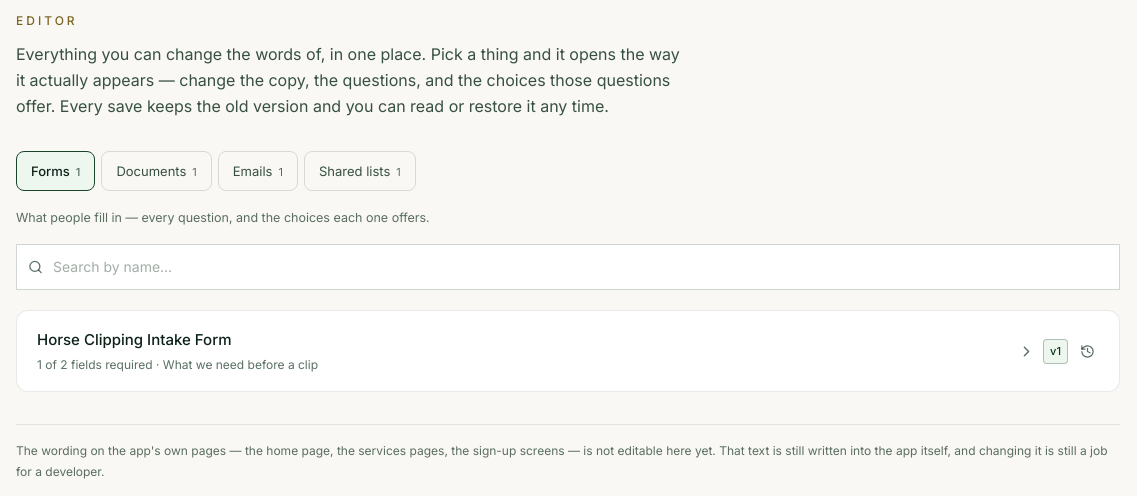
it: TASK-SURFACEEDITOR — the editor entry page › lists only the SHARED vocabularies flat — a form menu belongs on its form
What coordinates should you click on to do the following:
click the button "Shared lists1"
I would click on:
 (360, 171)
Its box is [304,151,416,191].
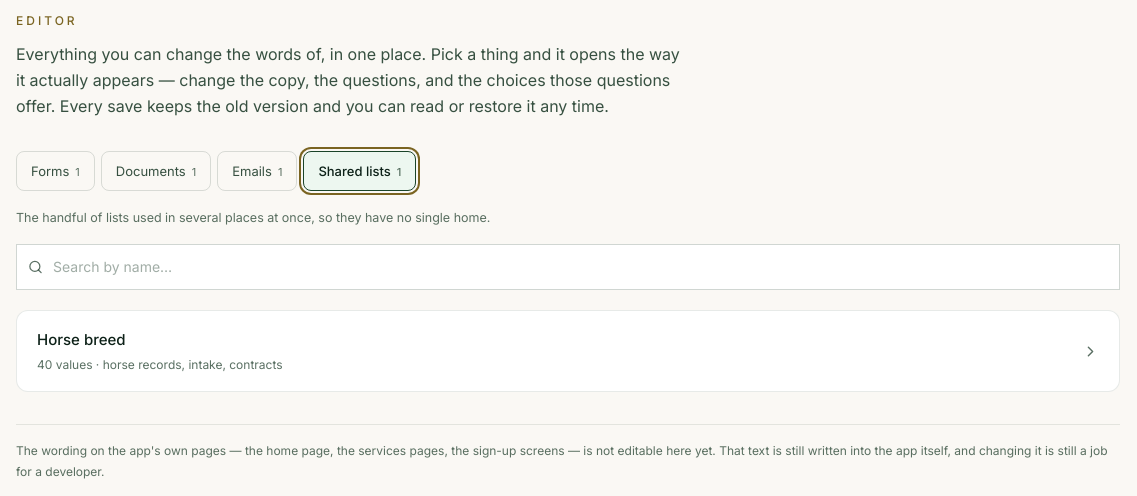
Now the text "Horse breed" is shown, box [37,330,126,349]
